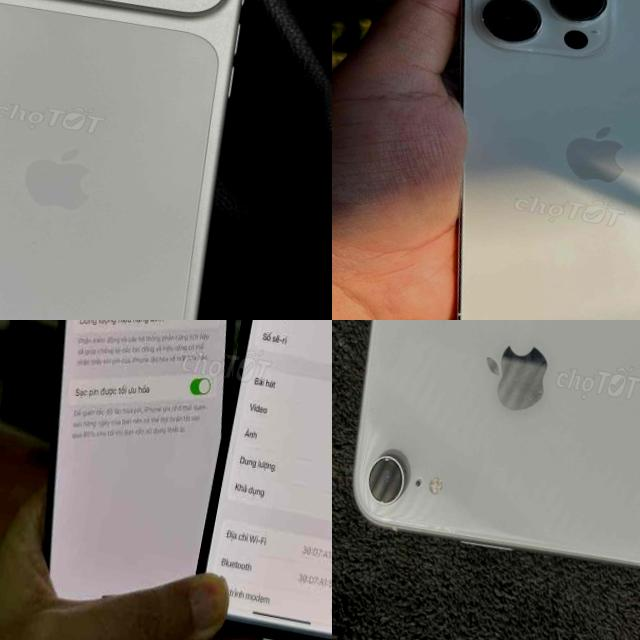gen_14: (379, 0, 640, 320), (183, 320, 332, 640)
gen_17: (0, 0, 291, 320)
gen_x_xs: (332, 320, 640, 620)
